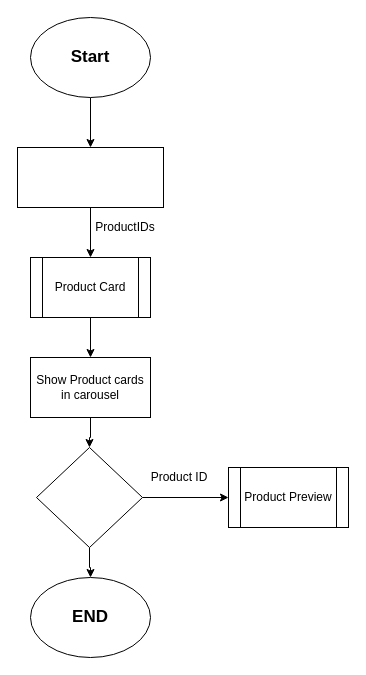
Some shapes in this 366 by 675 pixel diagram are drawn without their labels. The centre of each missing label's shape, as x and y in pixels:
Get Random Number of Products from Products table in firestore: pixel 90 177
Product Card ?: pixel 89 497
